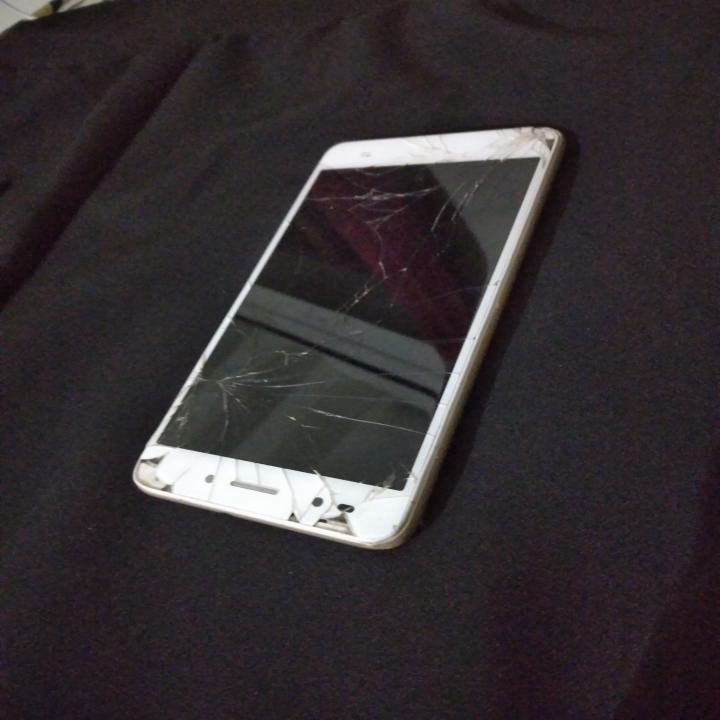Crack: (298, 110, 563, 331), (128, 347, 419, 543)
